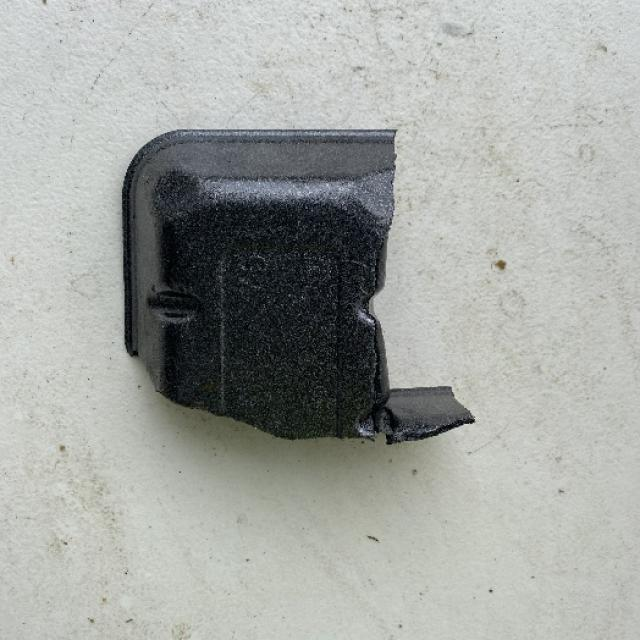styrofoam: (120, 126, 475, 446)
